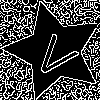V: (29, 26, 86, 82)
